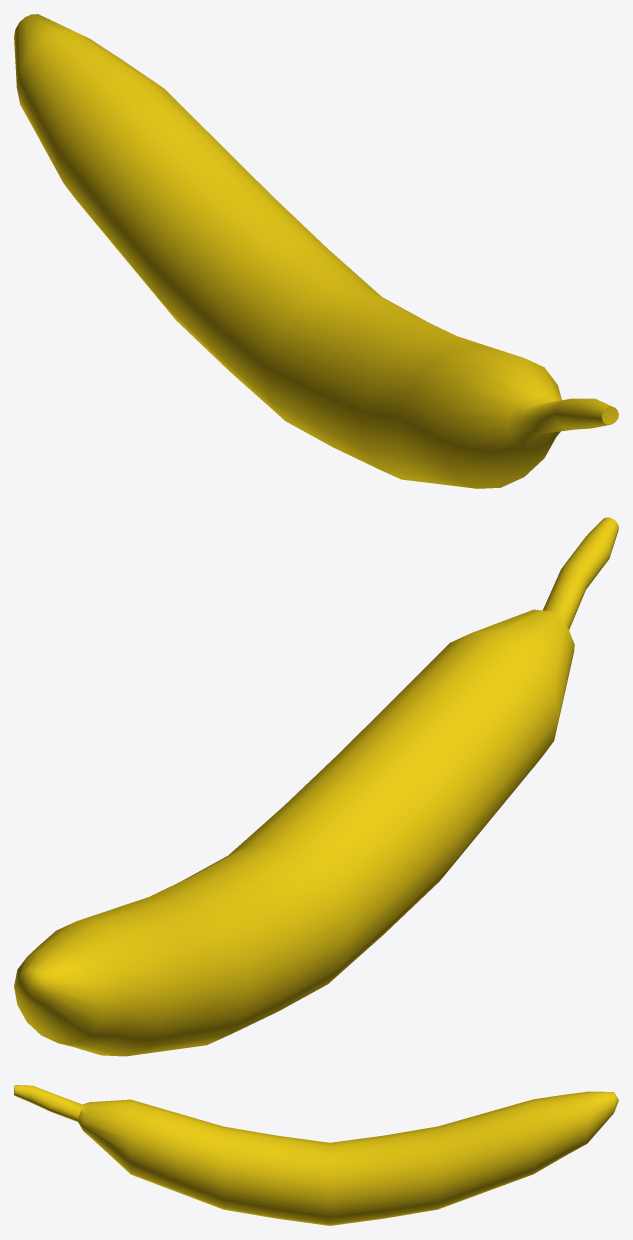
Rendered from banana.fbx.
3 views of the same model, one above another, from view 1: azimuth 30°, elevation 25°; view 2: azimuth 150°, elevation 25°; view 3: azimuth 270°, elevation 25° (orthographic). The views are drawn at different scales.
Parts seen in each view (by area): view 1: muz; view 2: muz; view 3: muz.
Boxes of the visible parts, x1=… form: muz: x1=14, y1=14, x2=618, y2=488; muz: x1=14, y1=517, x2=618, y2=1056; muz: x1=14, y1=1085, x2=618, y2=1225.
Bounding box in the file's own units: 0.2966 × 0.464 × 1.95.
